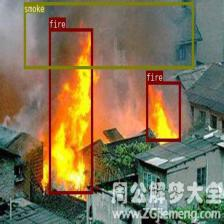fire: (48, 28, 92, 193), (146, 81, 180, 141)
smoke: (24, 2, 194, 68)
